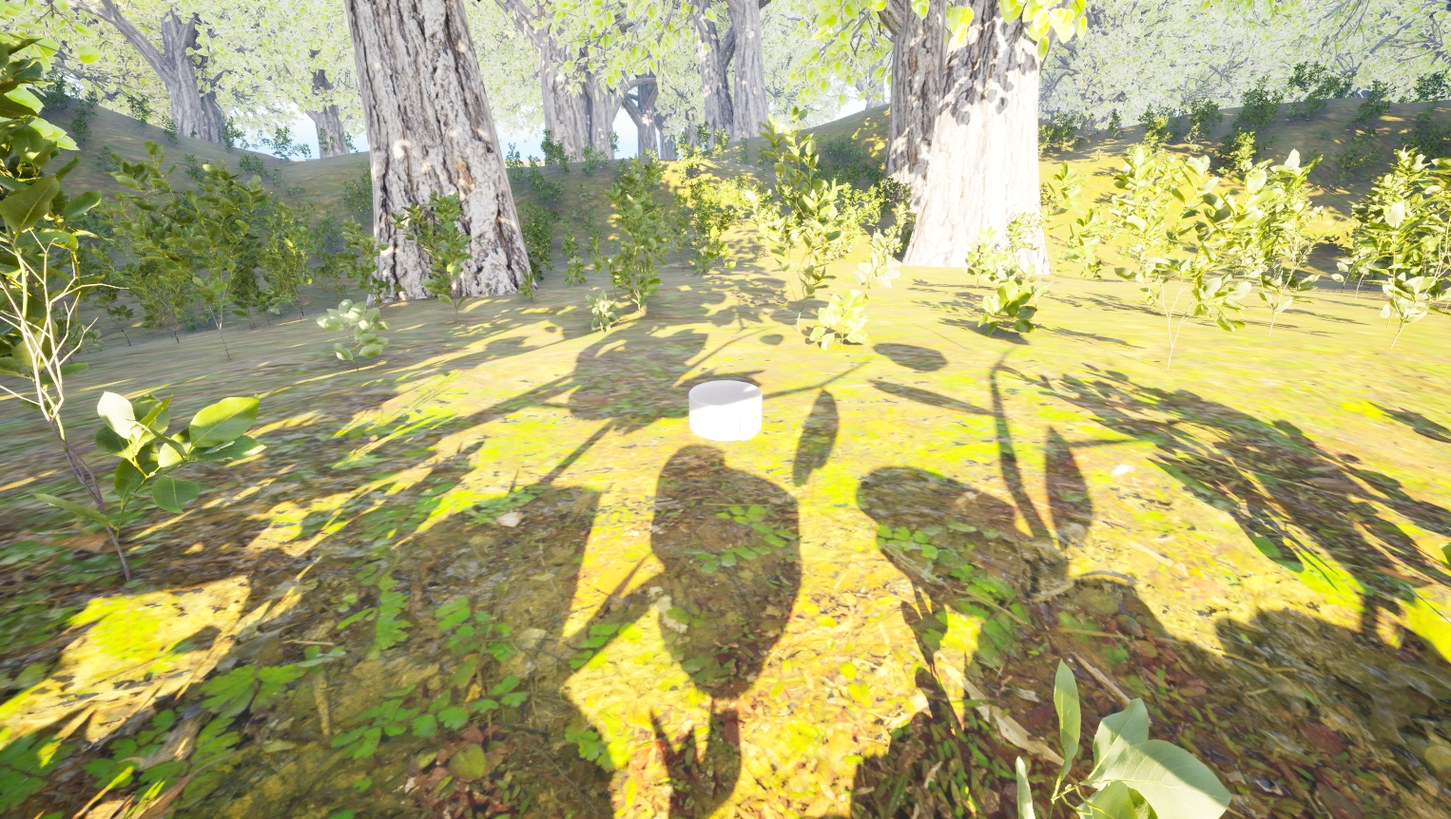Teacup: (680, 379, 765, 449)
